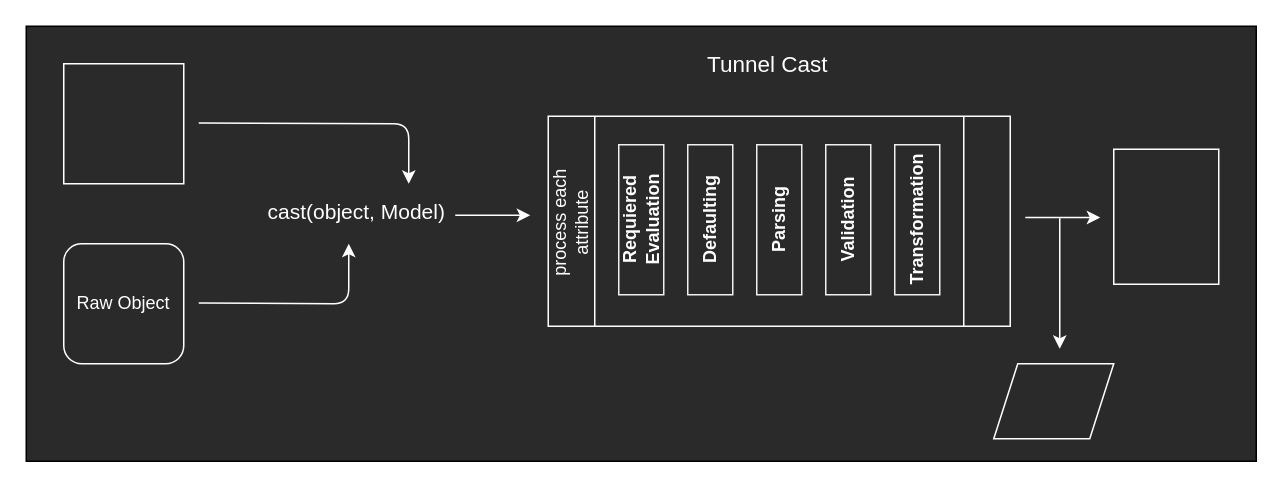
This 1283x488 diagram has some shape labels left out. The box of each missing label's shape, as (x1, y1, x2, y2) in pixels:
Casted Object: (1112, 148, 1219, 284)
Casting Error: (992, 362, 1114, 439)
Model Class: (62, 62, 184, 184)
